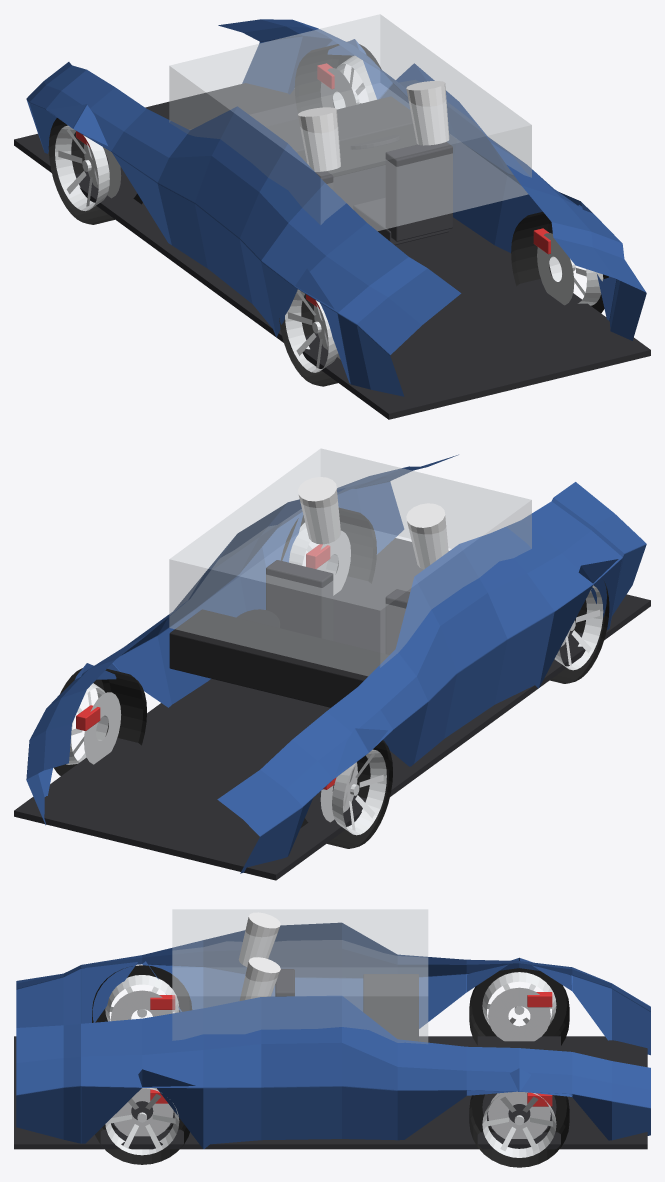
The model's file is Car_Bugatti_Veyron_16_4_2000s_Complete.glb.
3 views of the same model, one above another, from view 1: azimuth 30°, elevation 25°; view 2: azimuth 150°, elevation 25°; view 3: azimuth 270°, elevation 25° (orthographic). The views are drawn at different scales.
Parts seen in each view (by area): view 1: BODY_Bugatti_Veyron_MainShell, GLASS_Bugatti_Veyron, CHASSIS_CarbonMonocoque, INTERIOR_HypercarSeats, INTERIOR_Dashboard, AERO_Veyron_AirScoops, WHEEL_FR_Rim, WHEEL_RL_Tire, WHEEL_RR_Rim, WHEEL_FL_Tire, WHEEL_FR_Tire, BRAKE_RL_Rotor (+5 smaller); view 2: BODY_Bugatti_Veyron_MainShell, GLASS_Bugatti_Veyron, CHASSIS_CarbonMonocoque, INTERIOR_Dashboard, INTERIOR_HypercarSeats, AERO_Veyron_AirScoops, WHEEL_FR_Rim, WHEEL_FL_Tire, WHEEL_RL_Tire, WHEEL_FR_Tire, BRAKE_FL_Rotor, WHEEL_RR_Rim (+5 smaller); view 3: BODY_Bugatti_Veyron_MainShell, GLASS_Bugatti_Veyron, CHASSIS_CarbonMonocoque, INTERIOR_Dashboard, AERO_Veyron_AirScoops, BRAKE_FR_Rotor, WHEEL_FR_Tire, WHEEL_FL_Tire, WHEEL_FL_Rim, BRAKE_FL_Rotor, WHEEL_RL_Rim, BRAKE_RL_Rotor (+7 smaller).
Part boxes in pixels (x1,y1,x2,y2): BODY_Bugatti_Veyron_MainShell: [26, 19, 646, 396]; GLASS_Bugatti_Veyron: [169, 14, 531, 230]; CHASSIS_CarbonMonocoque: [14, 83, 650, 419]; INTERIOR_HypercarSeats: [315, 142, 452, 245]; INTERIOR_Dashboard: [266, 96, 417, 177]; AERO_Veyron_AirScoops: [298, 81, 449, 171]; WHEEL_FR_Rim: [55, 125, 109, 211]; WHEEL_RL_Tire: [511, 211, 608, 313]; WHEEL_RR_Rim: [285, 289, 338, 372]; WHEEL_FL_Tire: [294, 44, 381, 113]; WHEEL_FR_Tire: [48, 118, 142, 224]; BRAKE_RL_Rotor: [537, 233, 574, 305]; BODY_Bugatti_Veyron_MainShell: [26, 454, 646, 873]; GLASS_Bugatti_Veyron: [169, 448, 531, 676]; CHASSIS_CarbonMonocoque: [14, 538, 650, 880]; INTERIOR_Dashboard: [169, 609, 389, 707]; INTERIOR_HypercarSeats: [266, 560, 409, 654]; AERO_Veyron_AirScoops: [298, 477, 448, 569]; WHEEL_FR_Rim: [332, 749, 386, 835]; WHEEL_FL_Tire: [54, 668, 146, 775]; WHEEL_RL_Tire: [281, 507, 376, 583]; WHEEL_FR_Tire: [300, 740, 392, 848]; BRAKE_FL_Rotor: [84, 692, 121, 764]; WHEEL_RR_Rim: [554, 585, 603, 670]; BODY_Bugatti_Veyron_MainShell: [16, 922, 650, 1149]; GLASS_Bugatti_Veyron: [172, 909, 428, 1043]; CHASSIS_CarbonMonocoque: [14, 1036, 647, 1149]; INTERIOR_Dashboard: [363, 974, 418, 1041]; AERO_Veyron_AirScoops: [238, 912, 280, 1000]; BRAKE_FR_Rotor: [488, 987, 550, 1041]; WHEEL_FR_Tire: [469, 968, 569, 1045]; WHEEL_FL_Tire: [469, 1094, 569, 1167]; WHEEL_FL_Rim: [482, 1092, 556, 1157]; BRAKE_FL_Rotor: [488, 1091, 550, 1138]; WHEEL_RL_Rim: [105, 1088, 179, 1155]; BRAKE_RL_Rotor: [112, 1088, 173, 1136].
Size of the model in its own units: 2.1 by 1.36 by 4.58.
